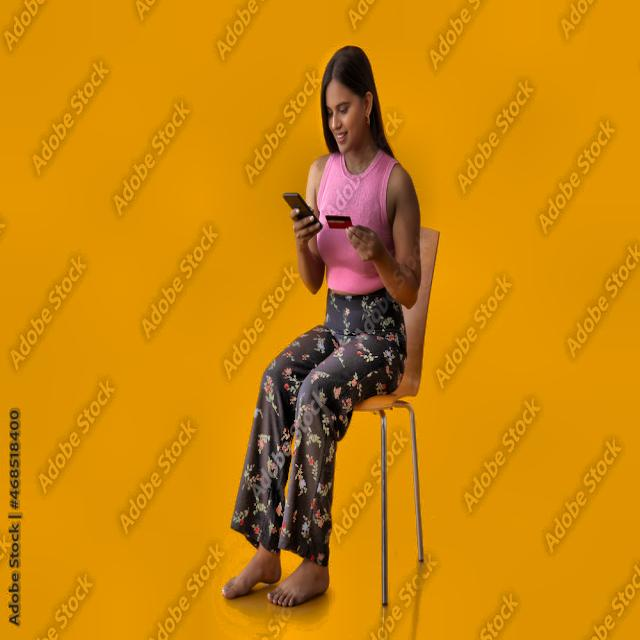Human: (231, 41, 431, 640)
